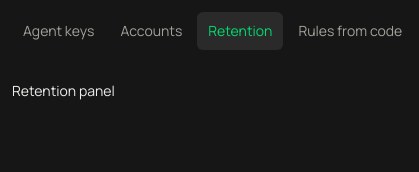
Test: SettingsTabs › drops the tab parameter when the first tab is chosen
Click the tab "Agent keys" at {"x": 59, "y": 31}, box x1=12 y1=12 x2=105 y2=50
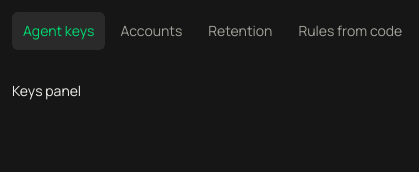
Check: the text "Keys panel" is shown, box x1=12 y1=81 x2=81 y2=100
